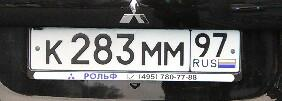license-plateSW: (32, 28, 240, 71)
